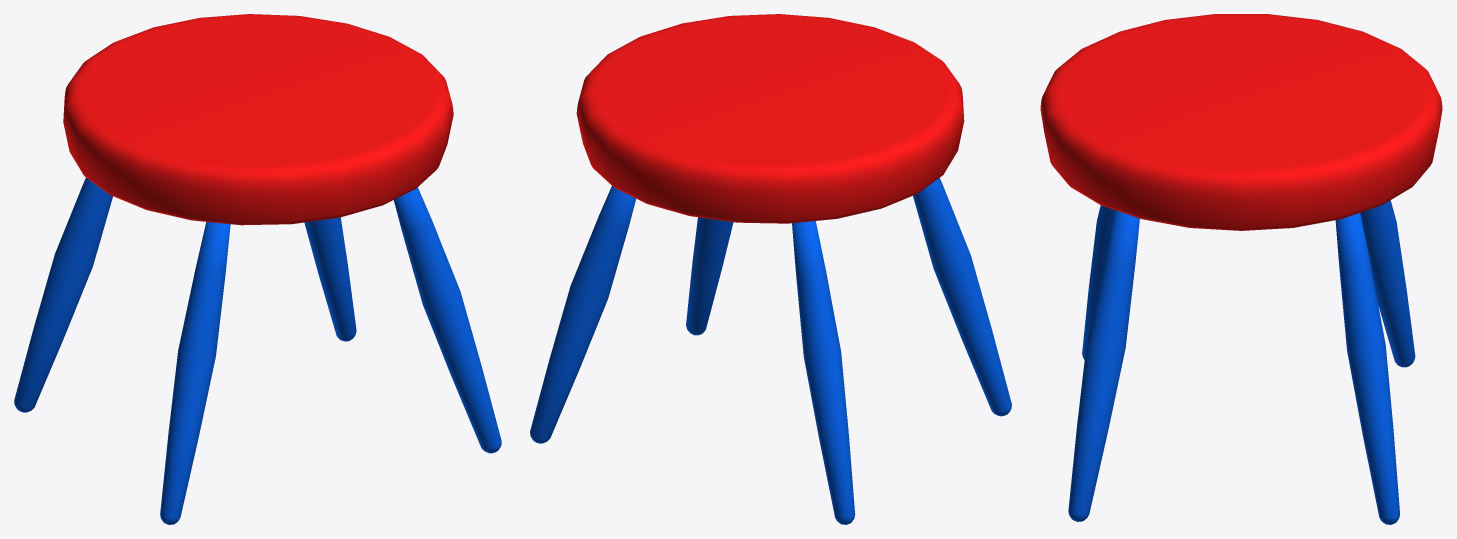
The model's file is Stool.fbx.
3 views of the same model, side by side, from view 1: azimuth 30°, elevation 25°; view 2: azimuth 150°, elevation 25°; view 3: azimuth 270°, elevation 25° (orthographic). The views are drawn at different scales.
Visible parts, largest first — view 1: Stool, StoolLegs; view 2: Stool, StoolLegs; view 3: Stool, StoolLegs.
Boxes of the visible parts, x1,y1,x2,y2 form: Stool: [63, 14, 453, 225]; StoolLegs: [14, 177, 501, 524]; Stool: [576, 14, 964, 223]; StoolLegs: [530, 178, 1011, 524]; Stool: [1040, 14, 1442, 230]; StoolLegs: [1068, 200, 1415, 524].
Bounding box in the file's own units: 27.89 × 26.84 × 27.88.
